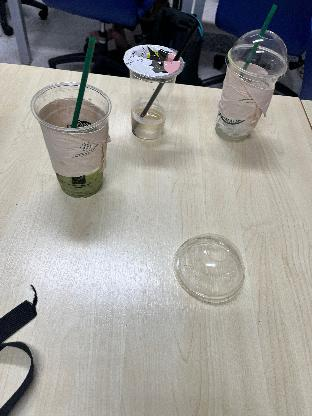Plastic Cup: (27, 79, 113, 201), (204, 44, 286, 140), (115, 42, 188, 140), (131, 36, 188, 122)
